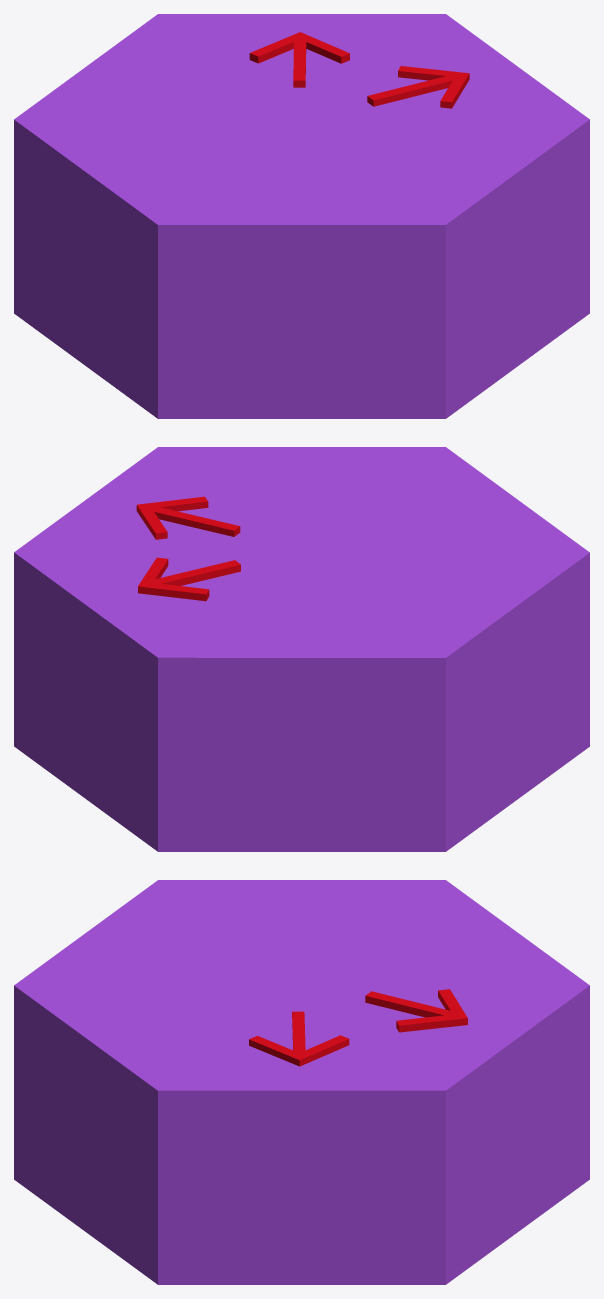
File: NormalTileArrowsStage3.fbx
3 views of the same model, one above another, from view 1: azimuth 30°, elevation 25°; view 2: azimuth 150°, elevation 25°; view 3: azimuth 270°, elevation 25° (orthographic).
Visible parts, largest first — view 1: NormalTileArrowsStage3; view 2: NormalTileArrowsStage3; view 3: NormalTileArrowsStage3.
Part boxes in pixels (x1,y1,x2,y2): NormalTileArrowsStage3: (14, 14, 589, 418); NormalTileArrowsStage3: (14, 447, 589, 851); NormalTileArrowsStage3: (14, 880, 589, 1284).
Size of the model in its own units: 173 by 77.05 by 200.
